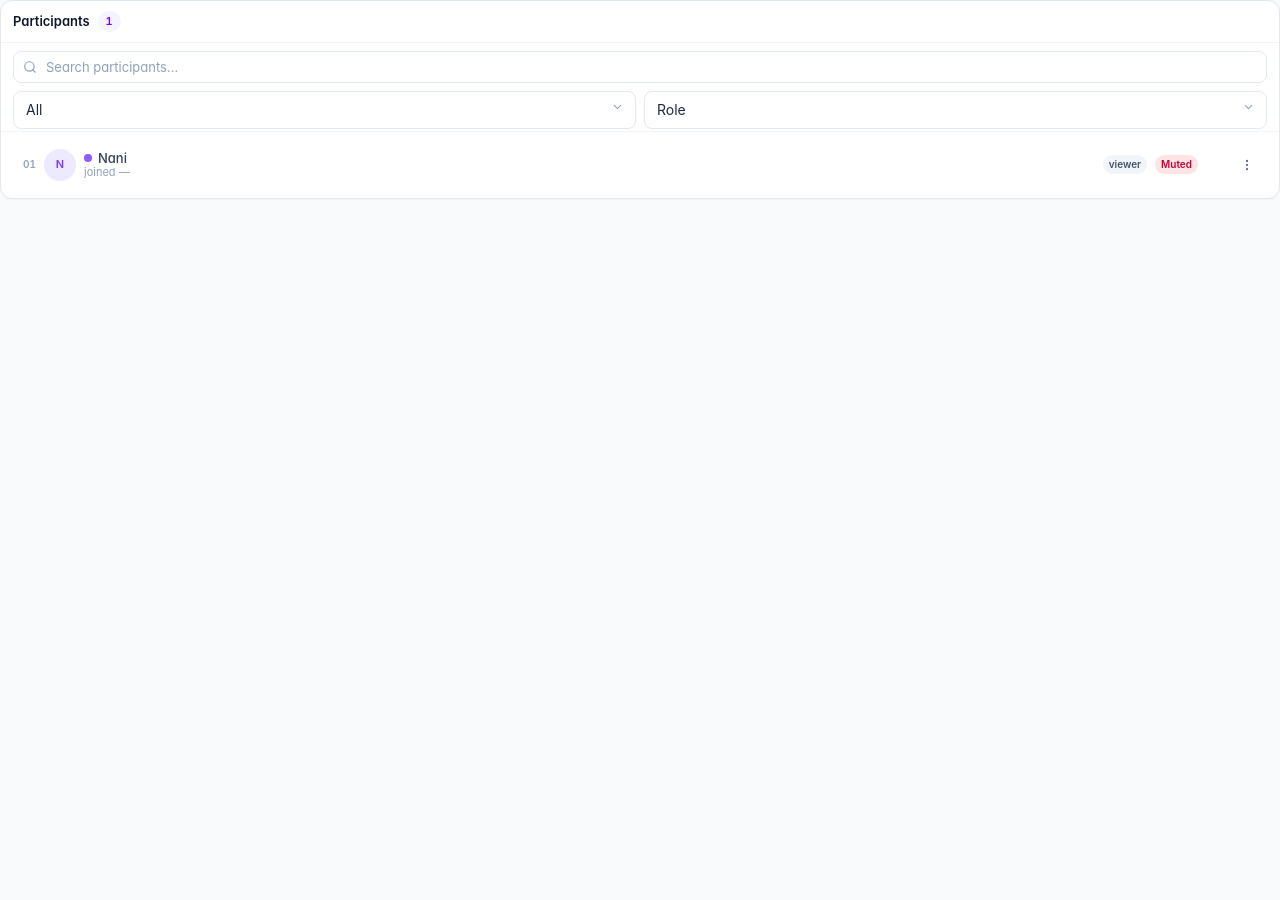
Scenario: across every state › on stage, silent offers the action that works
Click the button named "more actions for": coordinates (1247, 164) [1234, 150, 1260, 178]
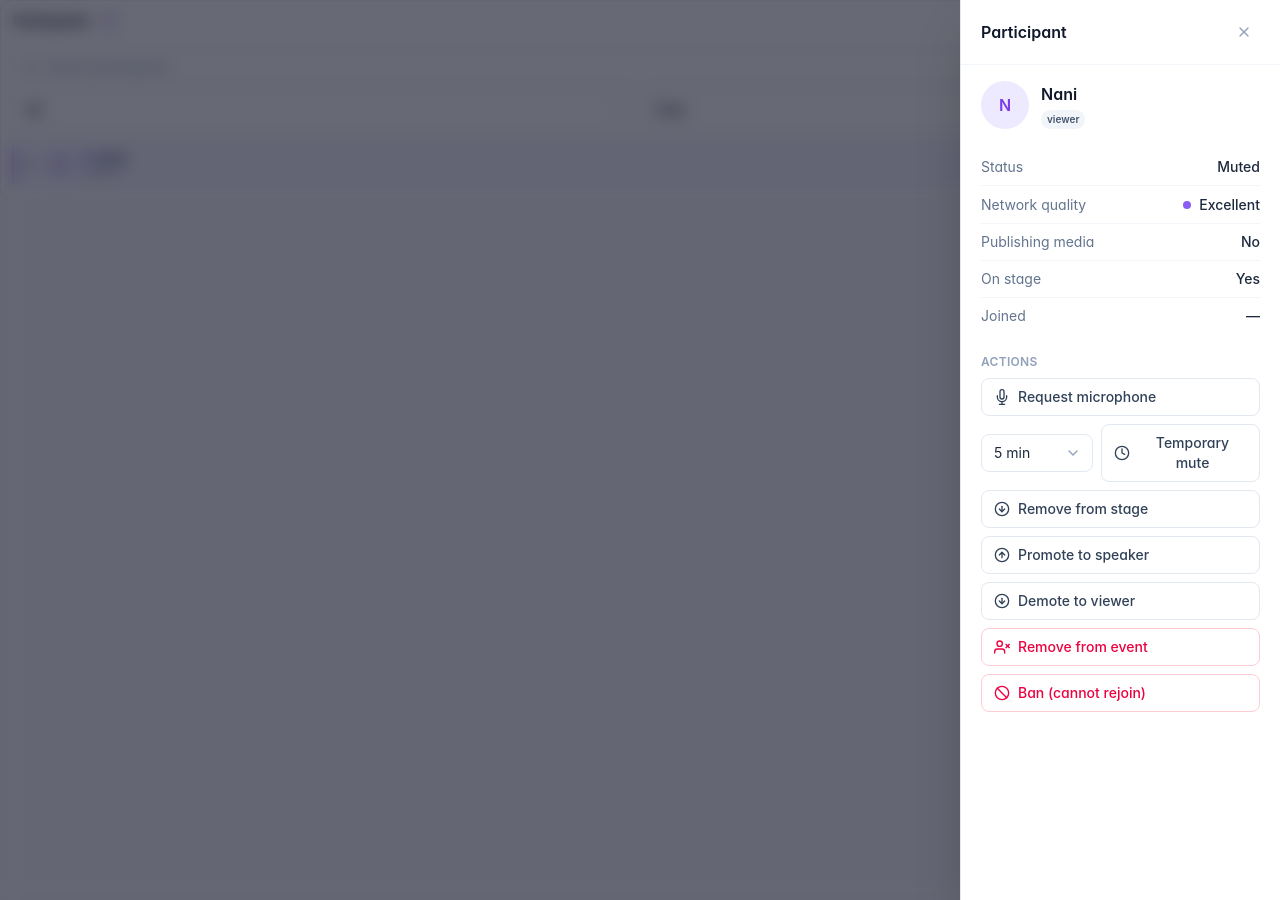
Check: the button "Request microphone" is shown, box [981, 378, 1260, 416]
